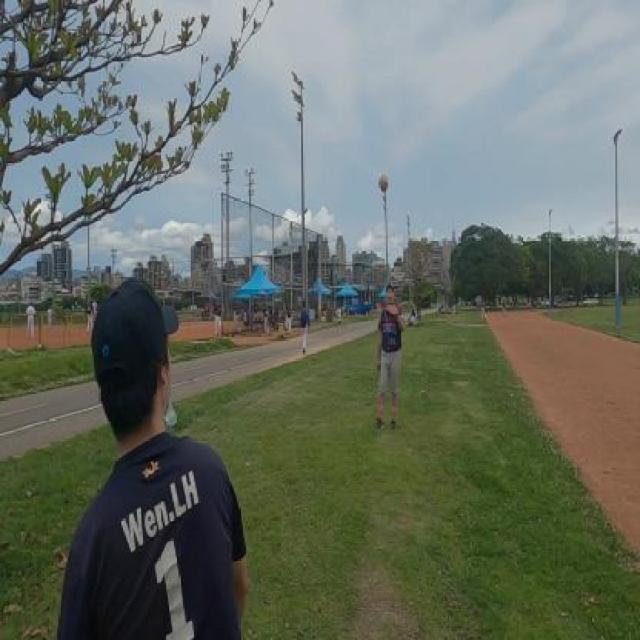baseball: (378, 174, 388, 192)
